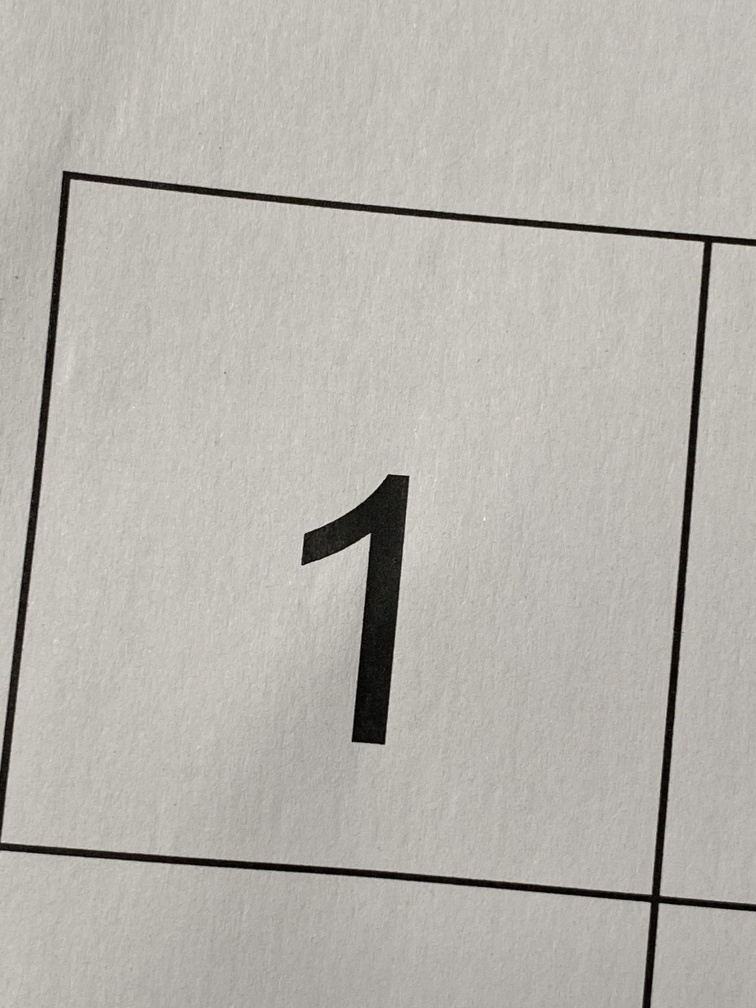one: (275, 448, 467, 783)
